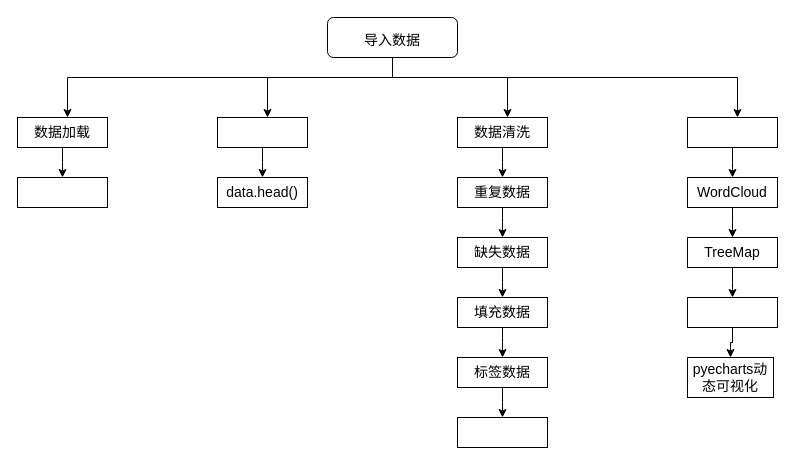
The diagram is 795 pixels wide and 465 high, and some of its shapes have lost their labels. Here are the shapes that lost their labels. From the top down, the centre of each, then its label:
(x=262, y=132): 数据预览
(x=732, y=132): 数据可视化
(x=62, y=192): pd.read_csv()
(x=732, y=312): seaborn画图
(x=502, y=432): 异常数据
